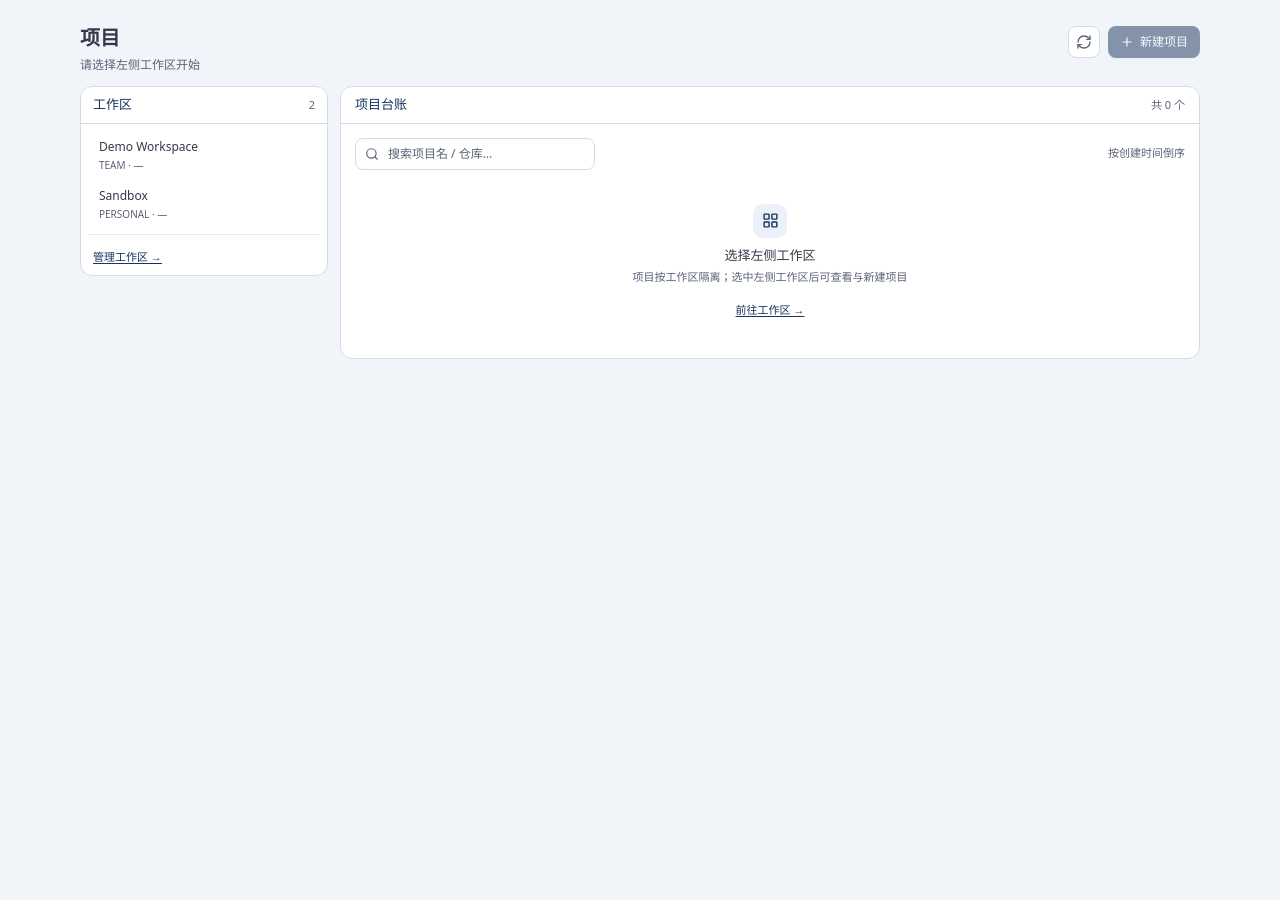
Test: Projects › 选择工作区展示项目列表，并通过弹窗创建项目
Click the button "Demo Workspace TEAM · —": x=204, y=155 [89,132,319,178]
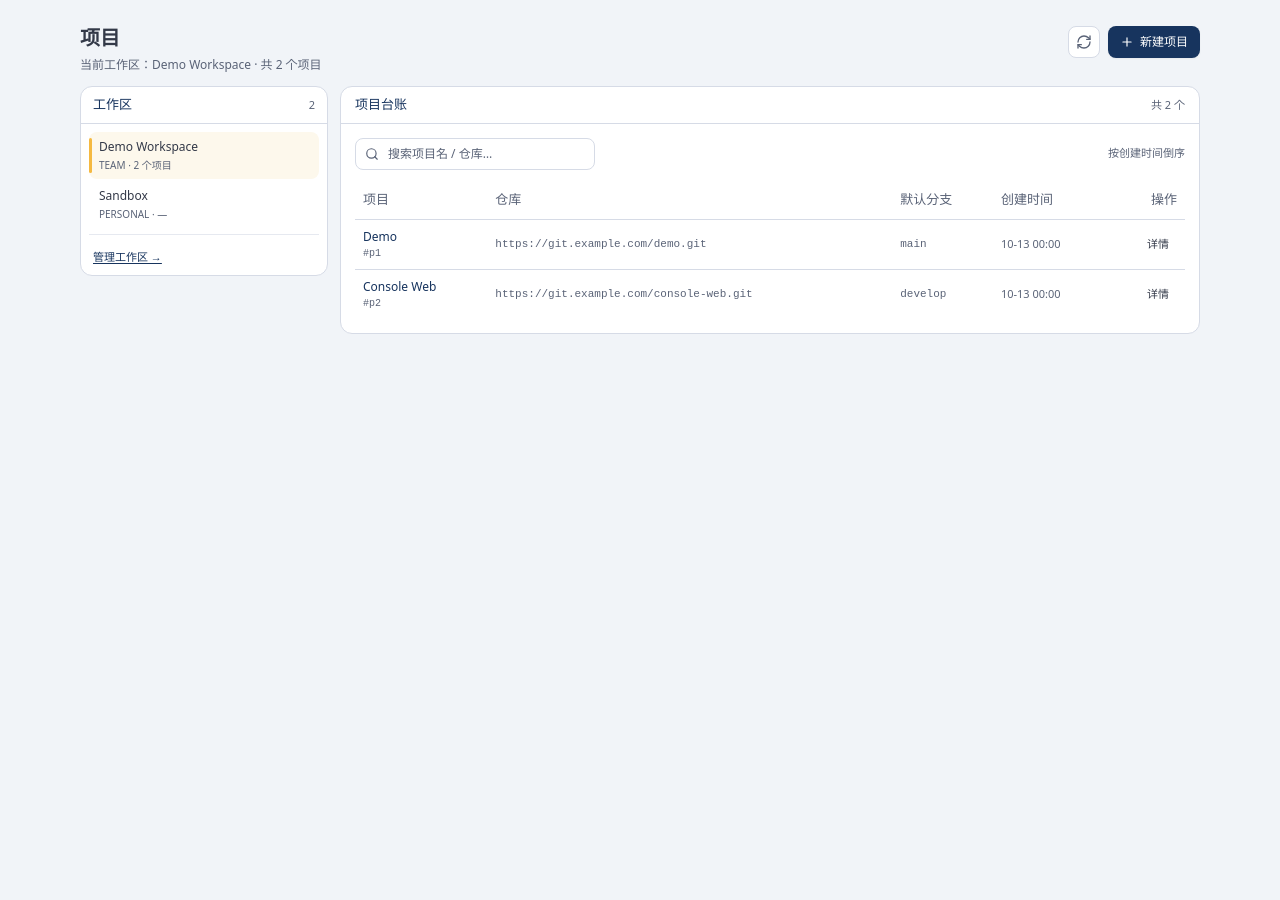
Now the row with test id "project-row-p1" shows "Demo", box [363,228,397,245]
Click the button with test id "project-create-open": x=1154, y=42 [1108,26,1200,58]
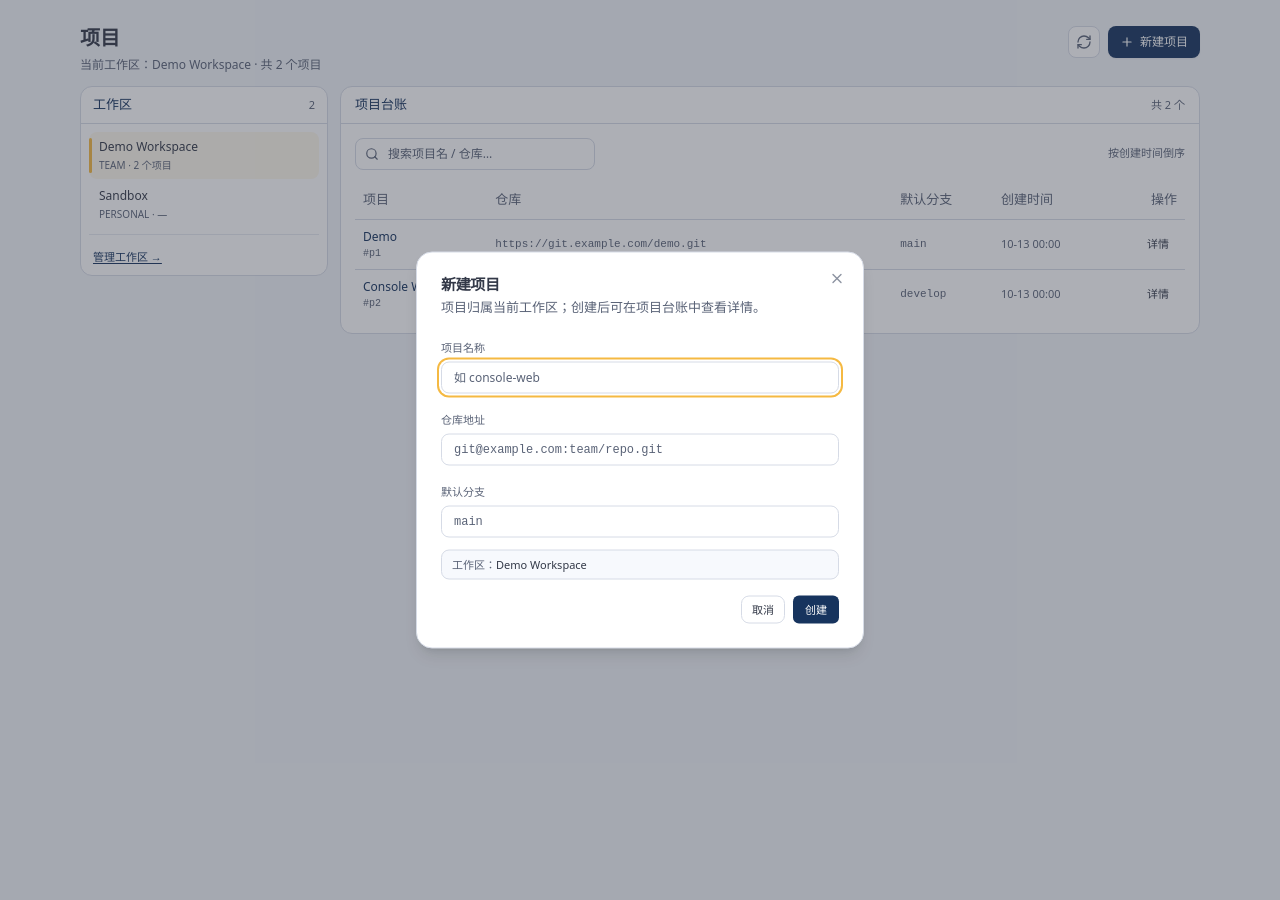
In the field with test id "project-name-input": x=640, y=377 [441,361,839,393], type "NewProj"
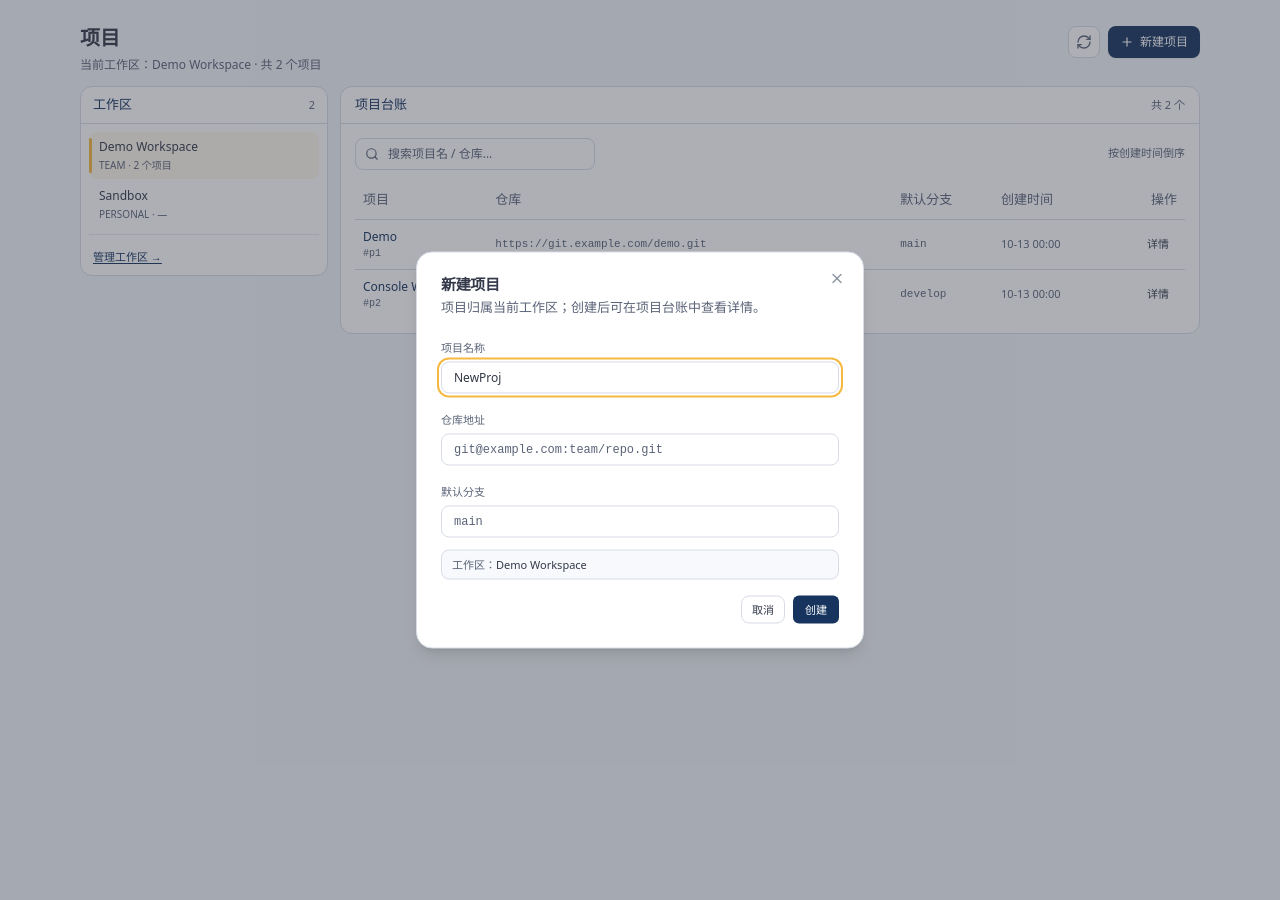
Click the button with test id "project-create-button": x=816, y=610 [793,596,839,624]
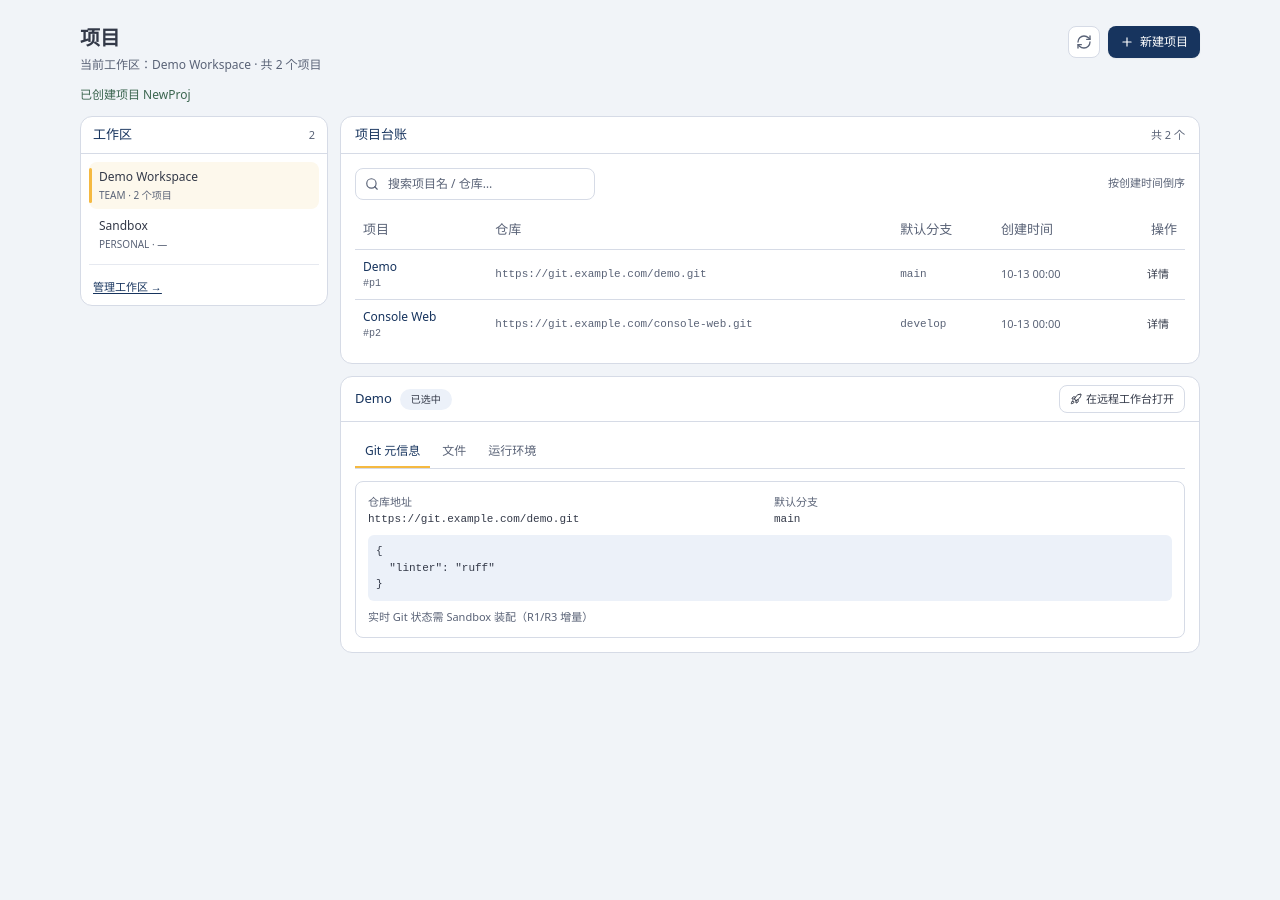
Now the message with test id "projects-feedback" reads "已创建项目 NewProj", box [80,86,190,103]
